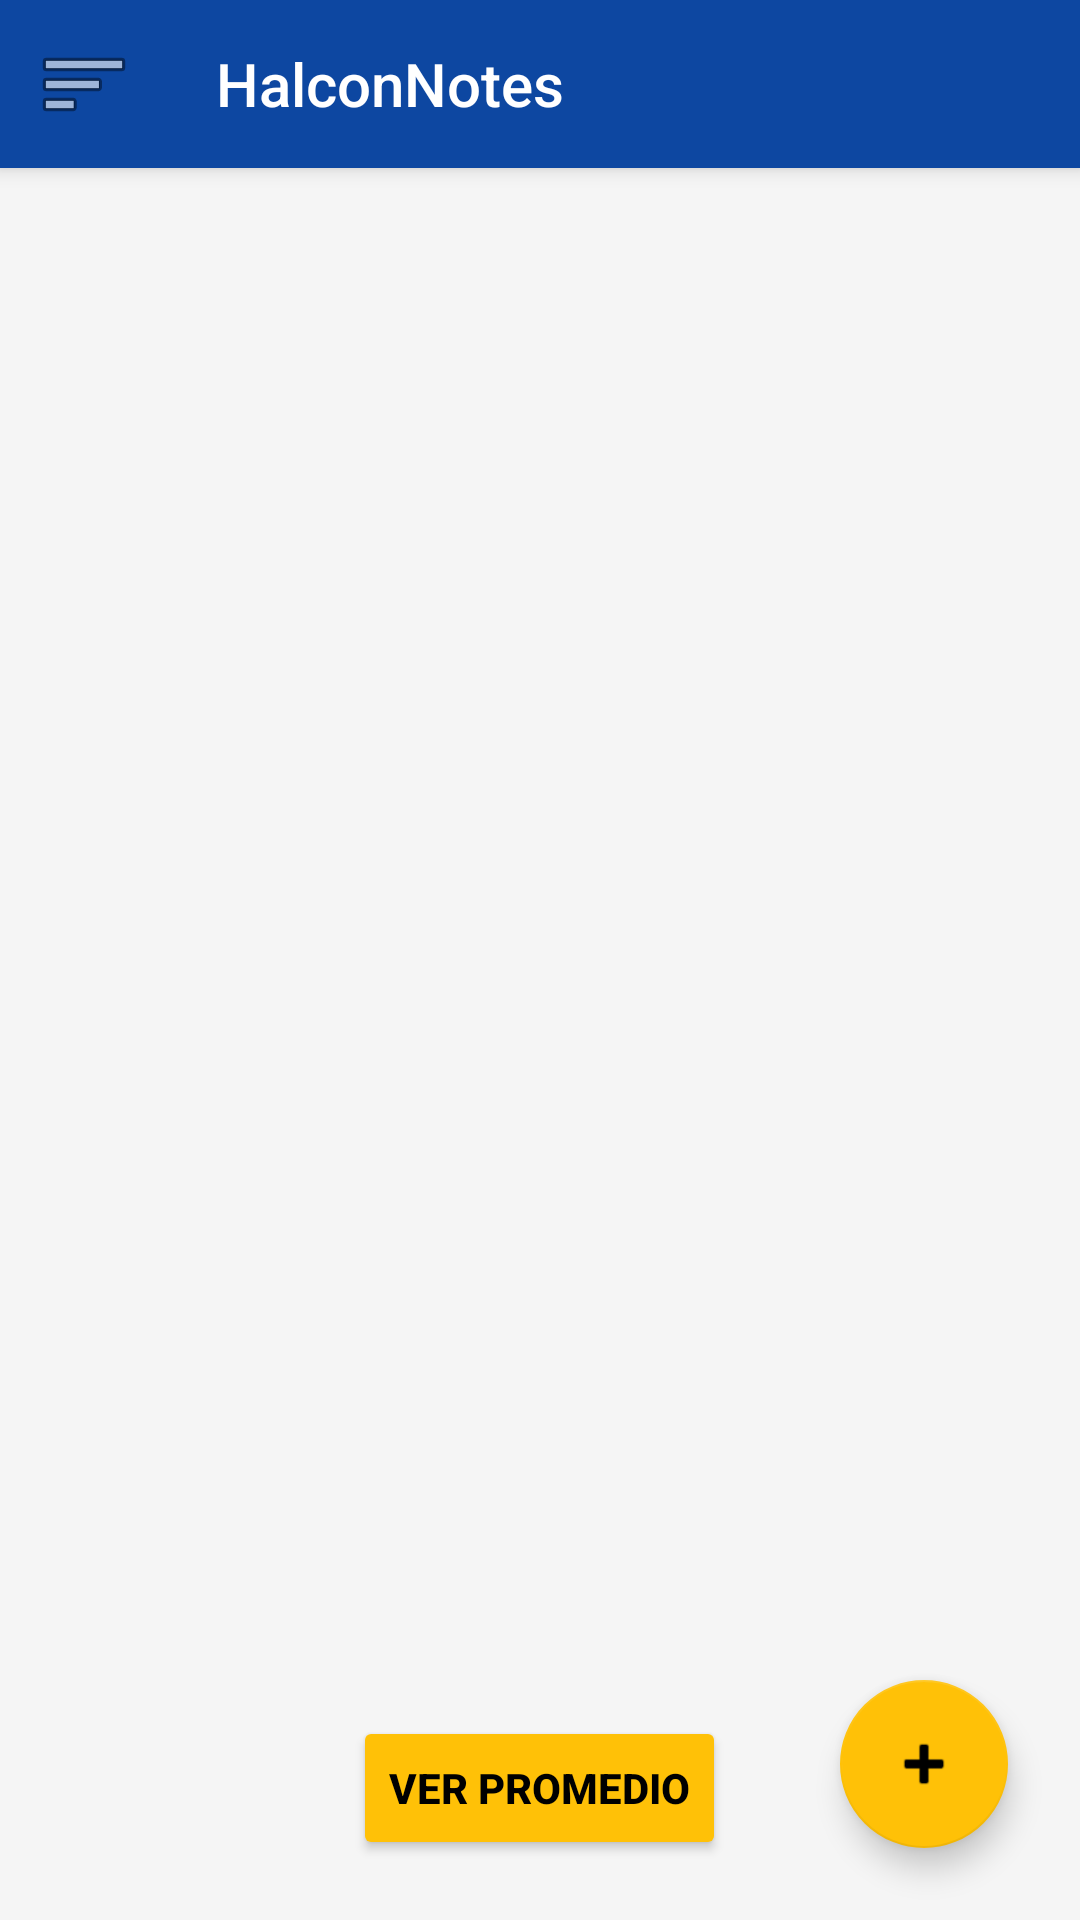

Named icons in this screenshot (1080 x 1920) and their bounding boxes, (x1=x1, y1=y1, x2=x2, y2=y2):
Agregar Curso: (x1=840, y1=1680, x2=1008, y2=1848)
